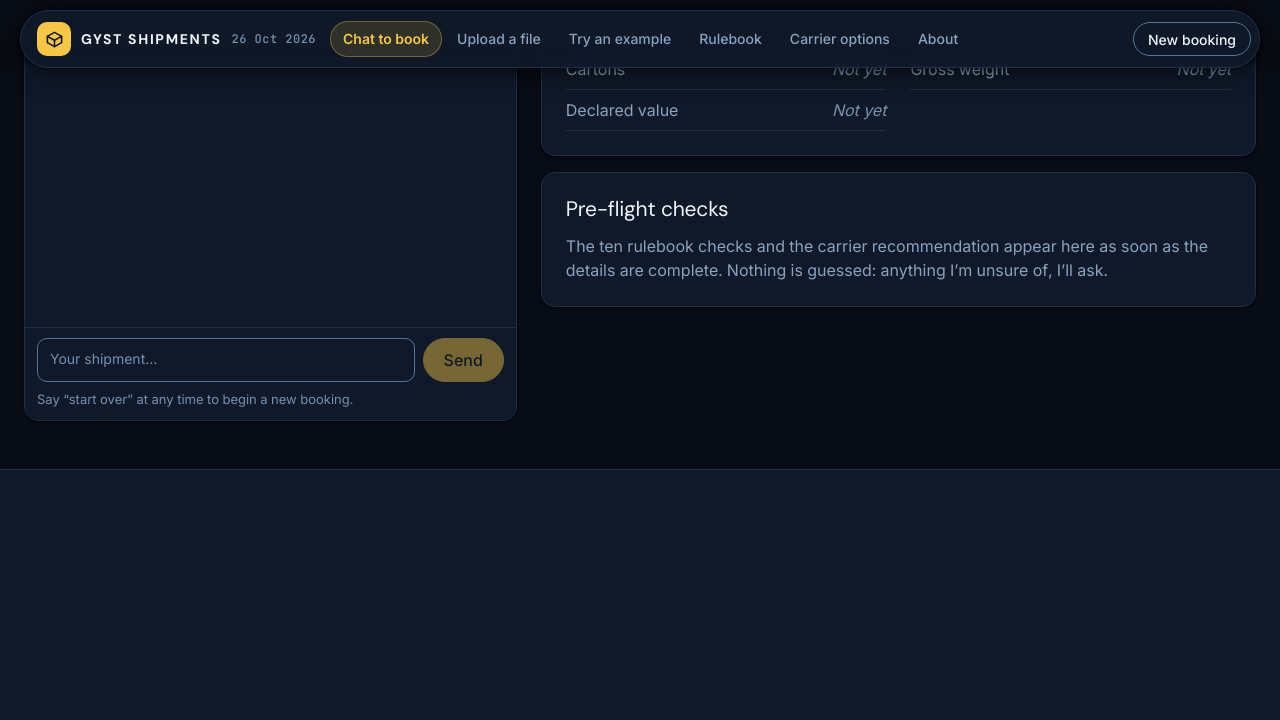
Test: in the chat › shows the missing details as a red numbered list with a short example
(page scrolled)
Step 1. Type "I want to ship 100 lamps to Netherlands" into the text box named "Your message" → (226, 360), box [37,338,414,382]
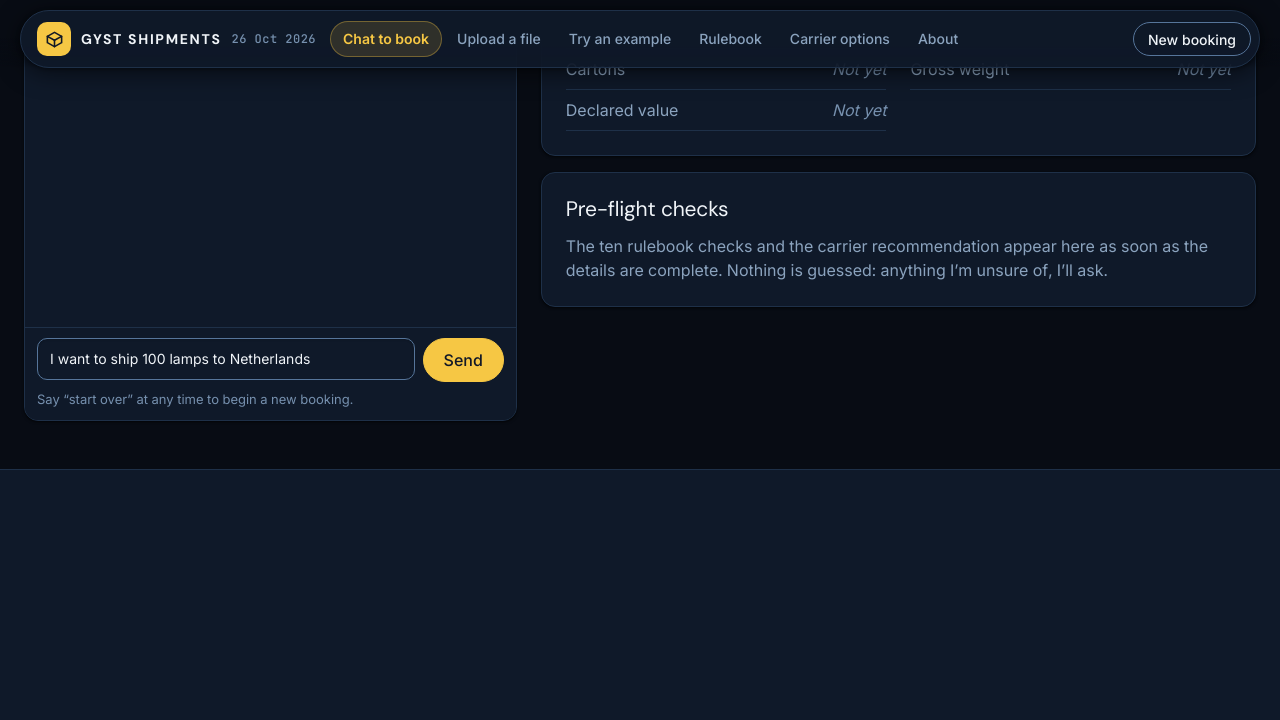
Step 2. Click the button "Send" → (463, 360), box [422,338,504,382]
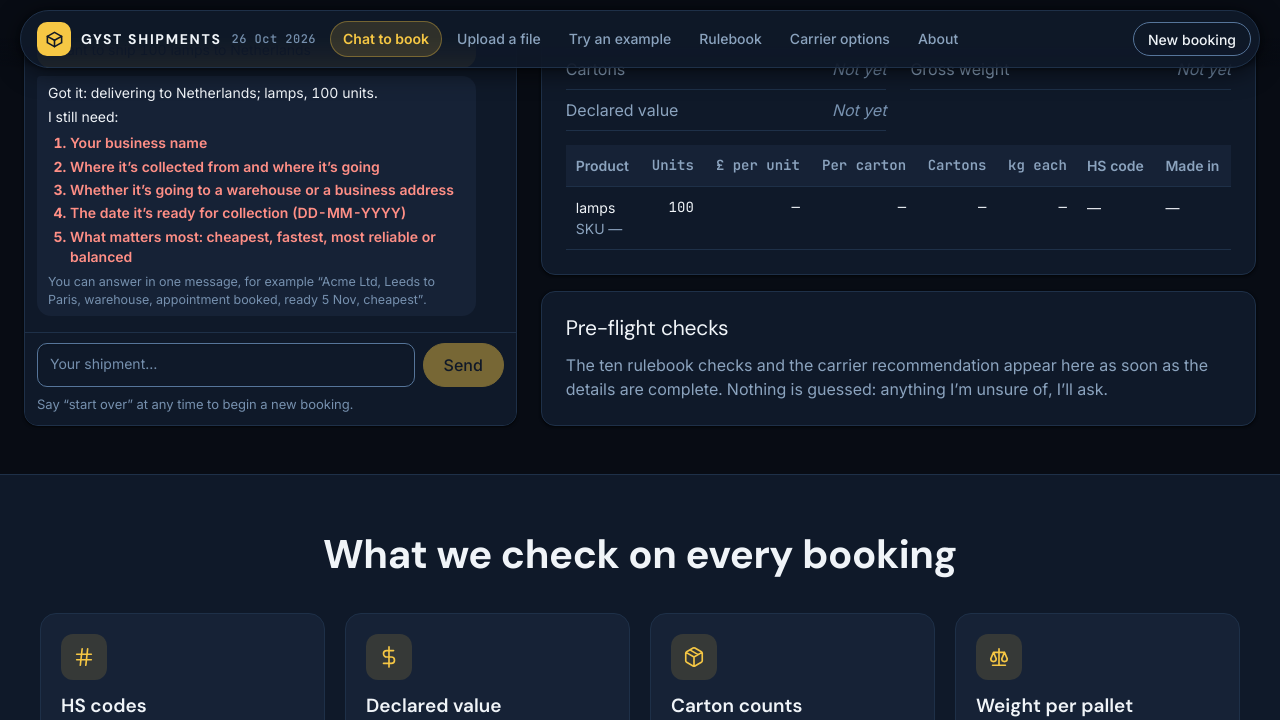
Now the list with class "needs" is shown, box [48,134,465,268]
Now the element with class "bot" shows "I still need:", box [48,108,118,125]
Now the text with class "needs-eg" shows "You can answer in one message, for example “Acme Ltd, Leeds to Paris, warehouse, appointment booked, ready 5 Nov, cheapest”.", box [48,274,435,308]
